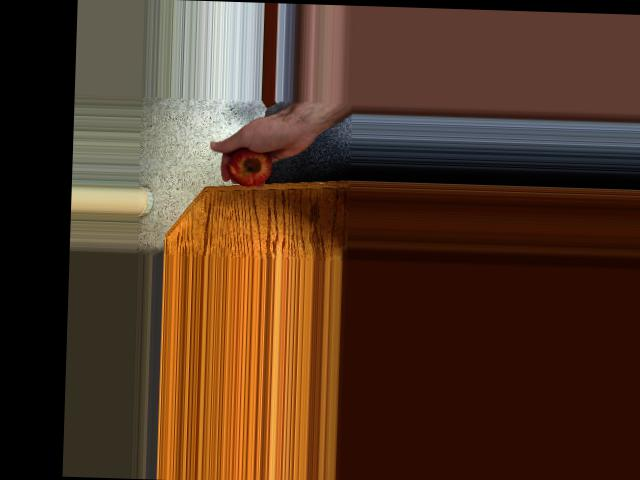apple: (225, 144, 277, 188)
